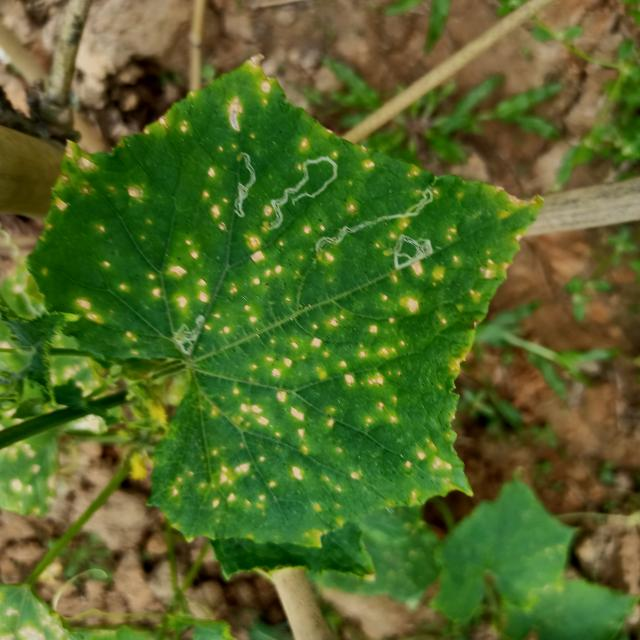disease_cucumber: (44, 70, 467, 339), (158, 236, 527, 530)
